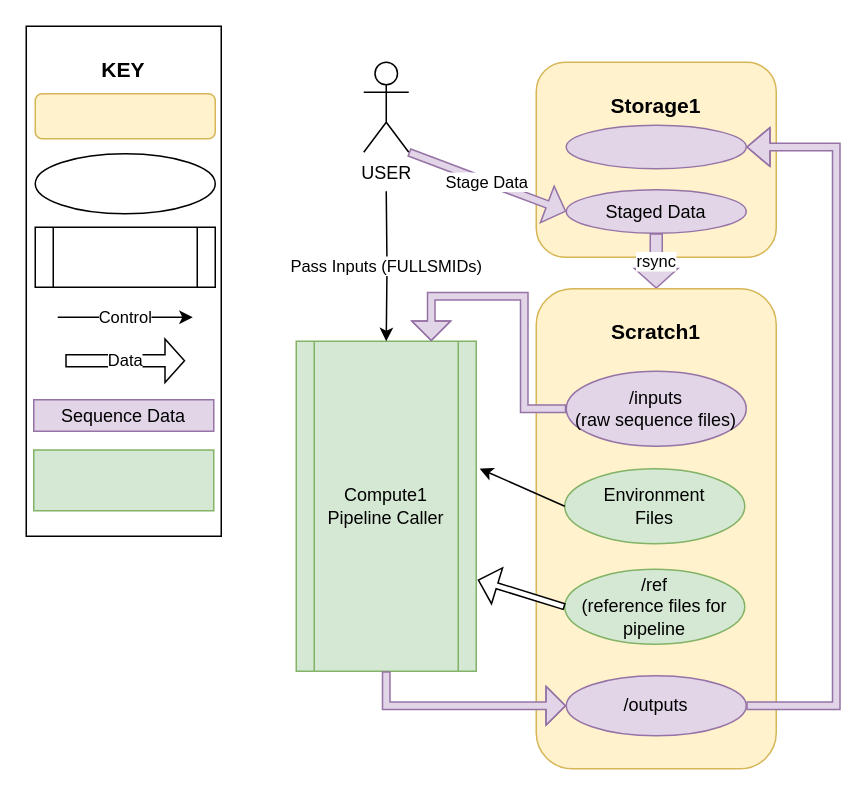
Image size: 867x795. Some labels were removed from this diagram. Each missing label, with the centre of its shape:
"Executable Script" belongs at (x=124, y=256).
"Modifiable w/o Changing Code" belongs at (x=123, y=479).
"Pipeline Outputs" belongs at (x=655, y=146).
"Resource File or Directory" belongs at (x=124, y=183).
"Storage Location" belongs at (x=124, y=115).
